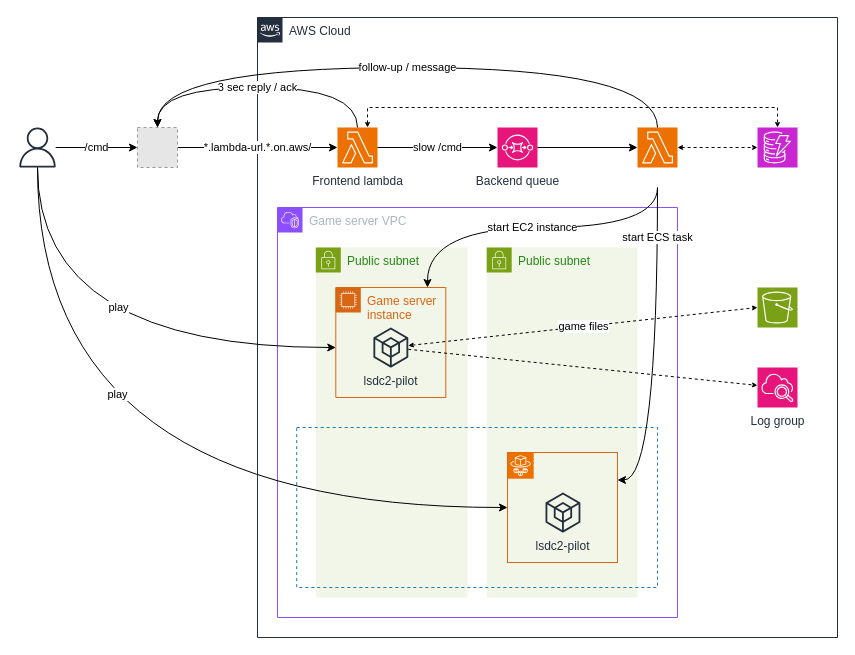
This 855x655 diagram has some shape labels left out. Grey dashed boxes stand in for pictures. The shapes that lost their labels are listed below. From the top down, each one's centre as x and y in pixels, then its label:
At [657,147]: "Backend lambda".
At [777,147]: "DynamoDB tables".
At [777,307]: "Savegame bucket".
At [520,465]: "Game server task".
At [477,507]: "ECS Cluster".
